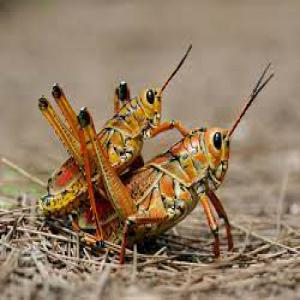locust: (115, 108, 247, 255), (36, 70, 183, 199)
